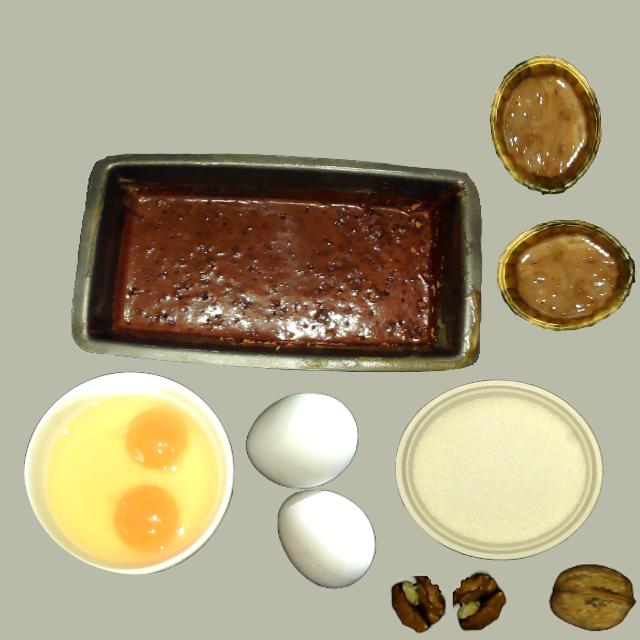Egg: (113, 485, 181, 552), (125, 408, 189, 471)
Sugar: (407, 394, 585, 550)
